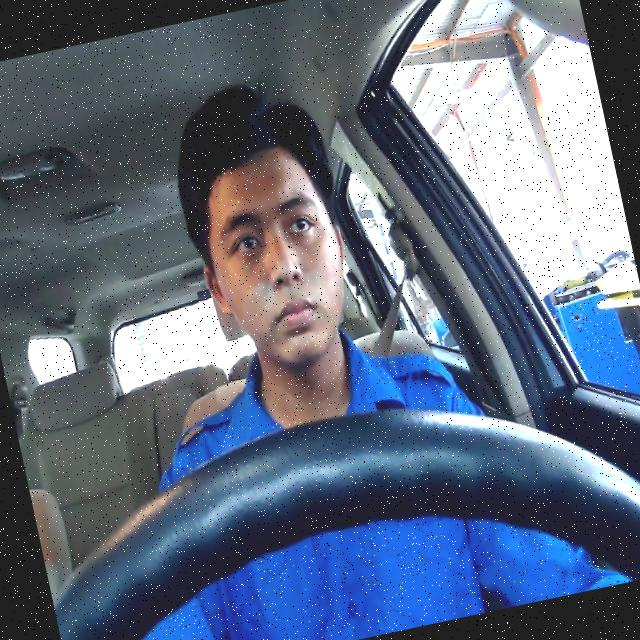focused: (180, 138, 365, 381)
